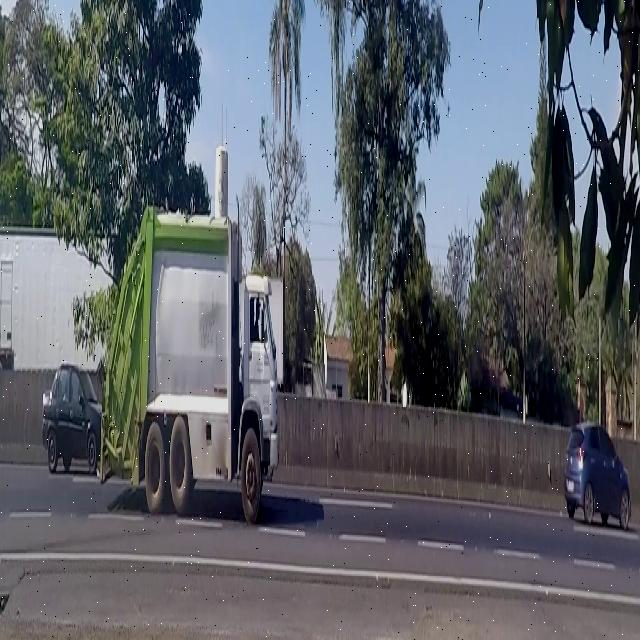-axle: (144, 415, 166, 520), (170, 413, 190, 518), (240, 431, 264, 518)
